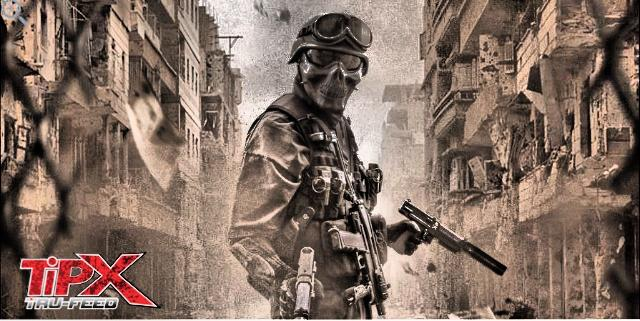pistol: (388, 196, 466, 254), (286, 242, 318, 318)
